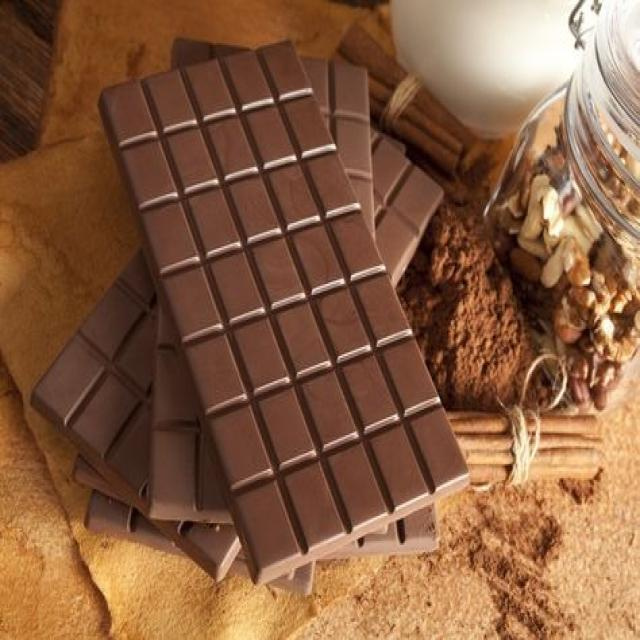Chocolate: (32, 38, 471, 600), (99, 41, 469, 587)
